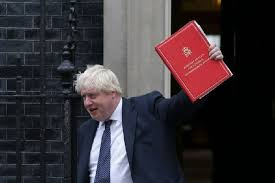red folder: (147, 17, 243, 103)
